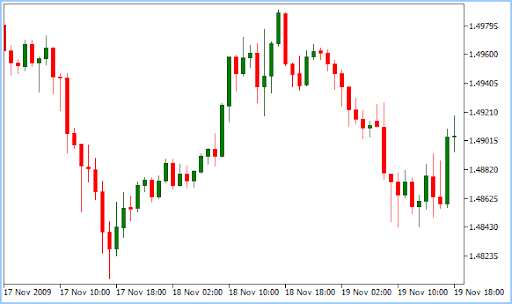3blackcrows: (325, 46, 345, 117)
bullishEngulfing: (106, 203, 120, 279)
hammer: (36, 55, 43, 96)
hangingMan: (78, 141, 85, 212), (388, 169, 394, 225)
shootingStar: (374, 102, 381, 132)
